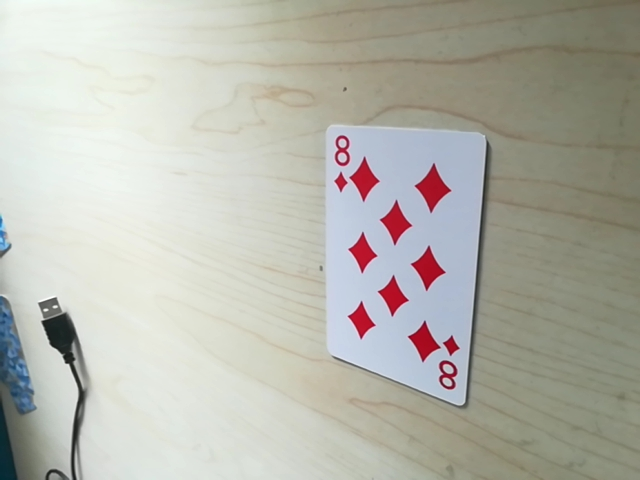fk 8: (429, 341, 465, 400), (325, 130, 358, 177)
